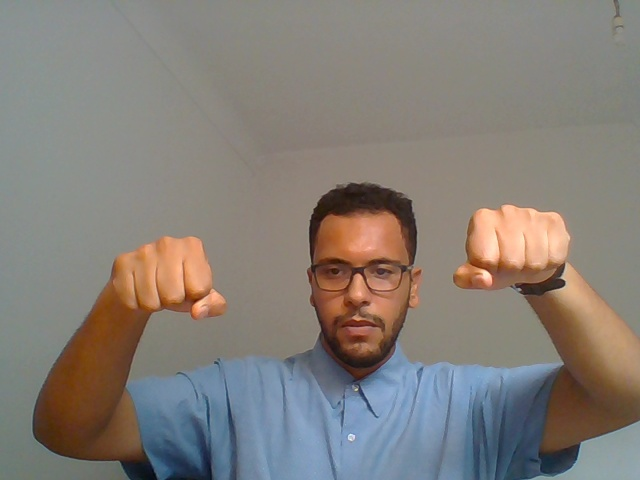yes: (78, 208, 236, 358), (437, 183, 601, 318)
